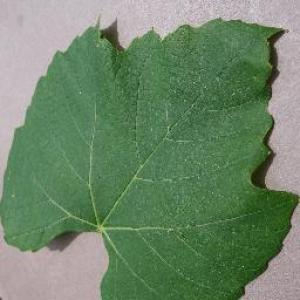Folha: (0, 12, 299, 299)
